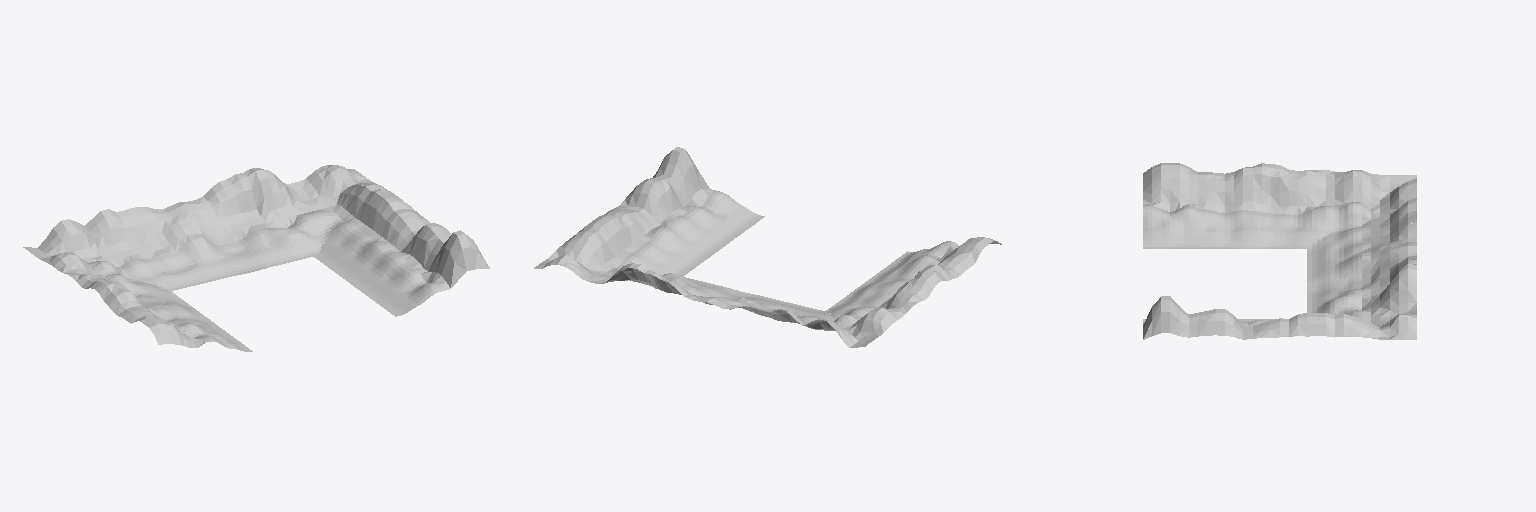
File: mHillsdeMountain.obj
The picture shows the model from 3 angles: view 1: azimuth 30°, elevation 25°; view 2: azimuth 150°, elevation 25°; view 3: azimuth 270°, elevation 25°; orthographic projection.
Visible parts, largest first — view 1: mHillsideMountain; view 2: mHillsideMountain; view 3: mHillsideMountain.
Boxes of the visible parts, box(x1,y1,x2,y2) form: mHillsideMountain: box(23, 165, 489, 351); mHillsideMountain: box(534, 147, 1001, 347); mHillsideMountain: box(1143, 163, 1416, 339).
Size of the model in its own units: 252 by 42.15 by 180.